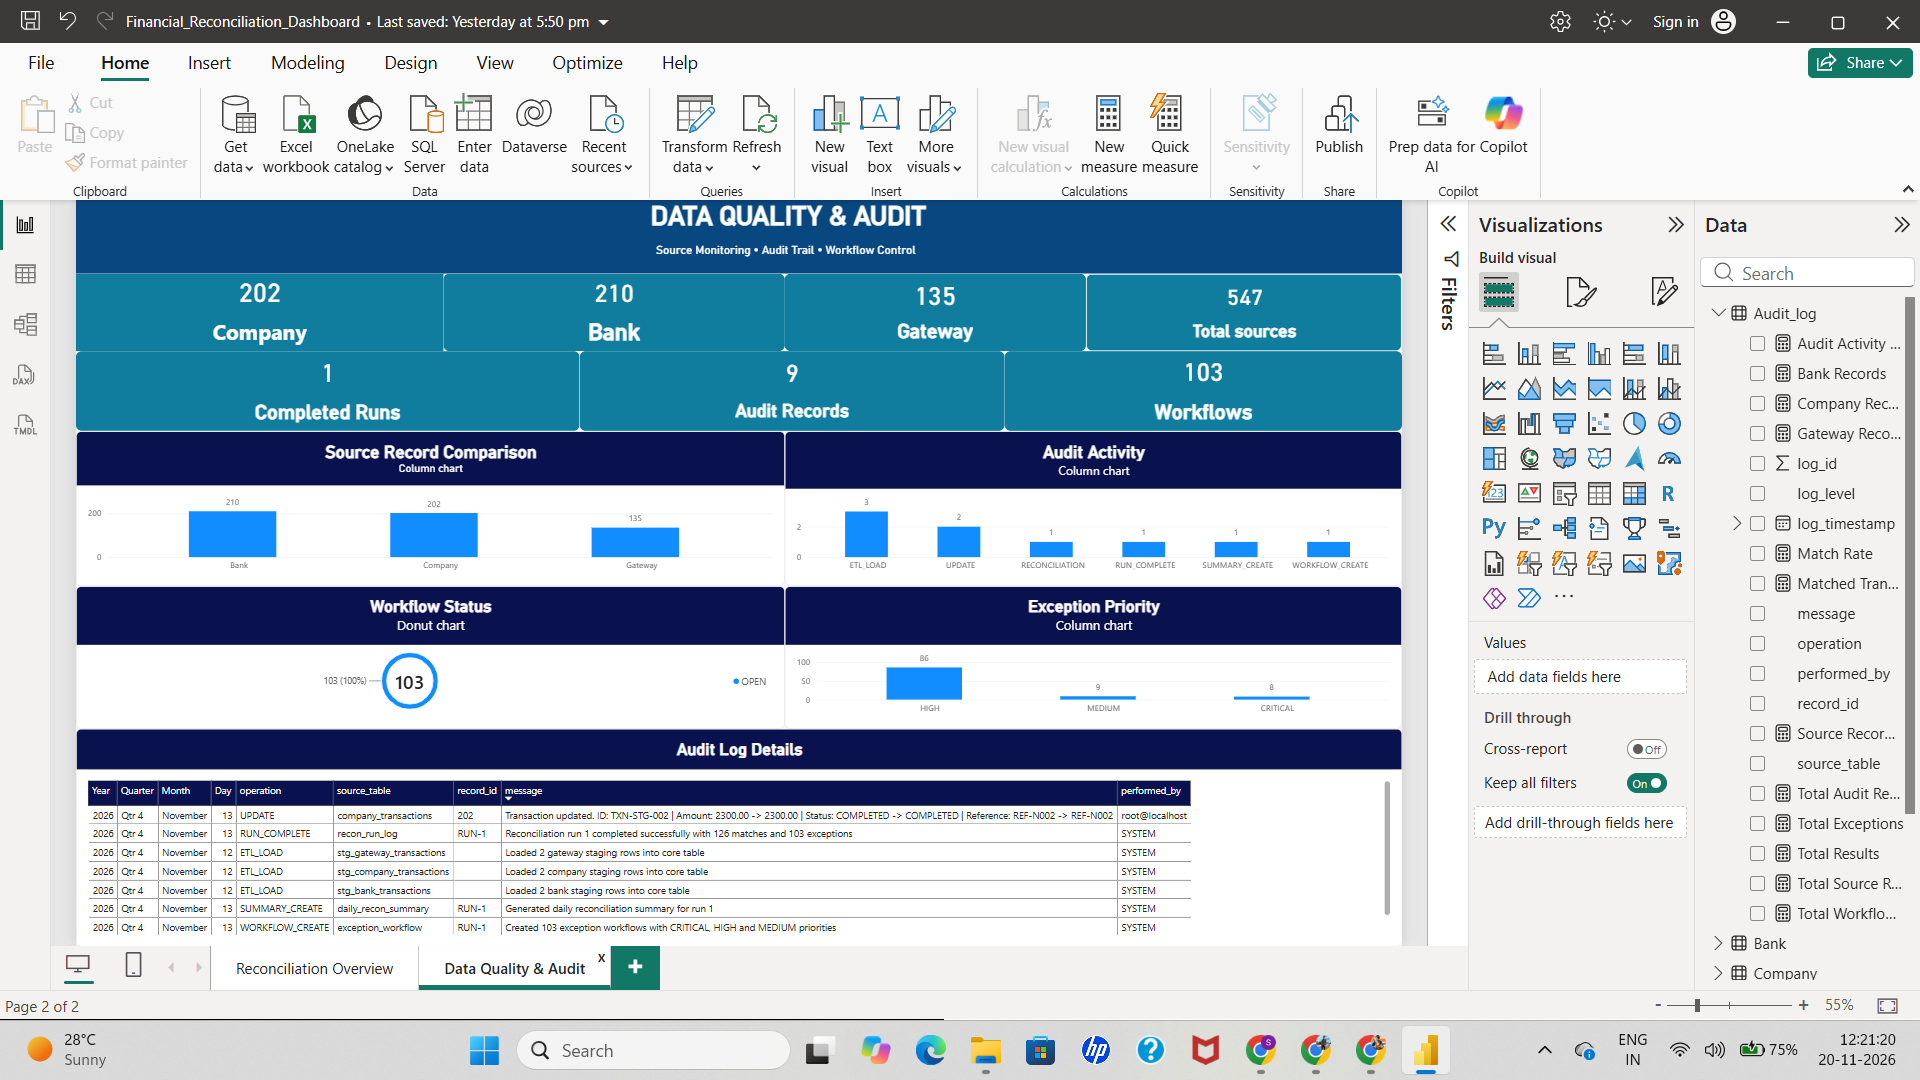

The page's visual inventory and layout, read from the dashboard file:
{"tool":"powerbi","page":{"name":"Data Quality & Audit","canvas":[1920,1080],"ordinal":1},"visuals":[{"type":"cardVisual","title":"COMPANY","fields":{"Data":["Audit_log.Company Records"]},"box":[0,106.8,532,112.2],"z":0},{"type":"cardVisual","fields":{"Data":["Audit_log.Bank Records"]},"box":[532,106.8,494,112.2],"z":1},{"type":"cardVisual","fields":{"Data":["Audit_log.Gateway Records"]},"box":[1026.1,106.8,436.1,112.2],"z":2},{"type":"cardVisual","fields":{"Data":["Audit_log.Total Source Records"]},"box":[1462.2,106.8,457.8,112.2],"z":3},{"type":"cardVisual","fields":{"Data":["Run_Log.Completed Runs"]},"box":[0,219,729.3,115.8],"z":4},{"type":"clusteredColumnChart","title":"Source Record Comparison","fields":{"Category":["Source_List.Column1"],"Y":["Audit_log.Source Record Count"]},"box":[0,334.8,1026.1,224.4],"z":5},{"type":"cardVisual","fields":{"Data":["Audit_log.Total Workflow Records"]},"box":[1344.6,219,575.5,115.8],"z":7},{"type":"clusteredColumnChart","title":"Audit Activity ","fields":{"Category":["Audit_log.operation"],"Y":["Audit_log.Audit Activity Count"]},"box":[1026.1,334.8,894,224.4],"z":8},{"type":"tableEx","title":"Audit Log Details ","fields":{"Values":["Audit_log.log_timestamp.Variation.Date Hierarchy.Year","Audit_log.log_timestamp.Variation.Date Hierarchy.Quarter","Audit_log.log_timestamp.Variation.Date Hierarchy.Month","Audit_log.log_timestamp.Variation.Date Hierarchy.Day","Audit_log.operation","Audit_log.source_table","Audit_log.record_id","Audit_log.message","Audit_log.performed_by"]},"box":[0,765.5,1920.1,314.9],"z":9},{"type":"donutChart","title":"Workflow Status ","fields":{"Category":["Workflow.workflow_status"],"Y":["CountNonNull(Workflow.recon_id)"]},"box":[0,559.2,1026.1,206.3],"z":10},{"type":"clusteredColumnChart","title":"Exception Priority ","fields":{"Category":["Workflow.priority"],"Y":["CountNonNull(Workflow.recon_id)"]},"box":[1026.1,559.2,894,206.3],"z":11},{"type":"cardVisual","fields":{"Data":["Audit_log.Total Audit Records"]},"box":[729.3,219,615.3,115.8],"z":12},{"type":"textbox","box":[0,0,1920.1,106.8],"z":13}]}

Visuals, with their boxes on the page's 1920x1080 design canvas (x1, y1, x2, y2). These are canvas units, not pixel positions in the 1920x1080 screenshot, which may show the page scaled, cropped or inside an application window:
"COMPANY" cardVisual: (0,107,532,219)
cardVisual - Audit_log.Bank Records: (532,107,1026,219)
cardVisual - Audit_log.Gateway Records: (1026,107,1462,219)
cardVisual - Audit_log.Total Source Records: (1462,107,1920,219)
cardVisual - Run_Log.Completed Runs: (0,219,729,335)
"Source Record Comparison" clusteredColumnChart: (0,335,1026,559)
cardVisual - Audit_log.Total Workflow Records: (1345,219,1920,335)
"Audit Activity " clusteredColumnChart: (1026,335,1920,559)
"Audit Log Details " tableEx: (0,766,1920,1080)
"Workflow Status " donutChart: (0,559,1026,766)
"Exception Priority " clusteredColumnChart: (1026,559,1920,766)
cardVisual - Audit_log.Total Audit Records: (729,219,1345,335)
textbox: (0,0,1920,107)
